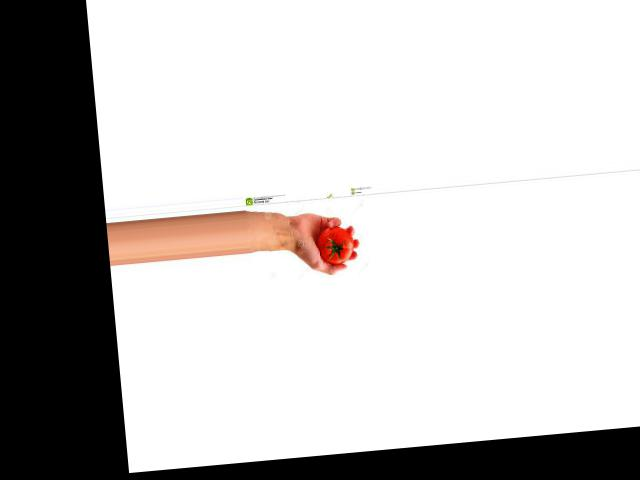tomato: (316, 224, 355, 265)
